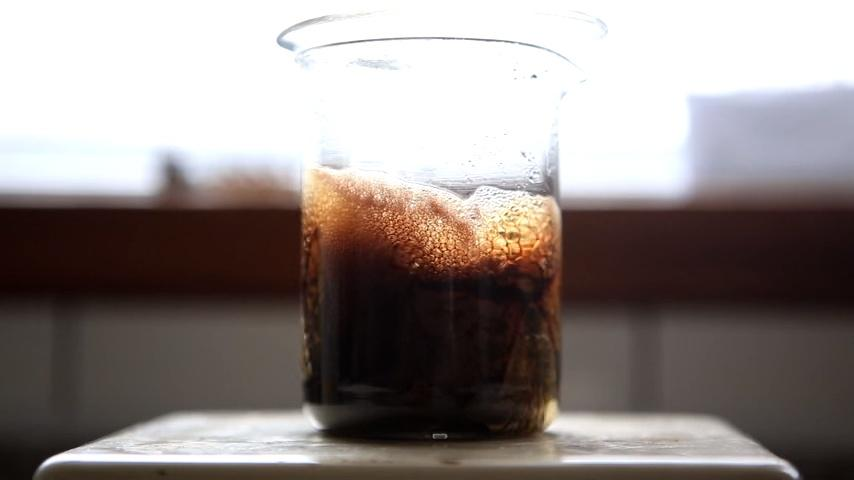Beaker: (273, 22, 574, 449)
